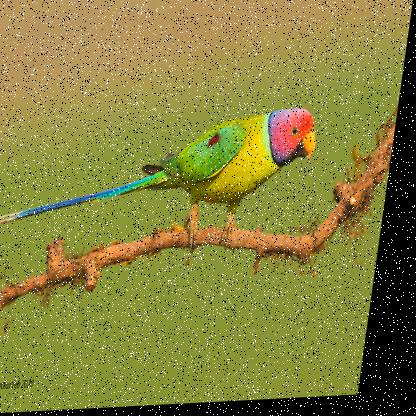Burung: (0, 109, 324, 264)
